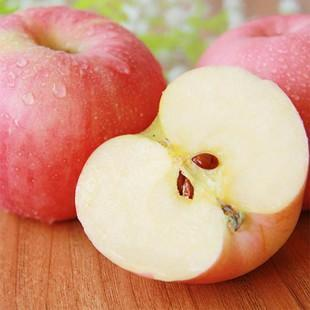apple: (1, 7, 167, 232)
